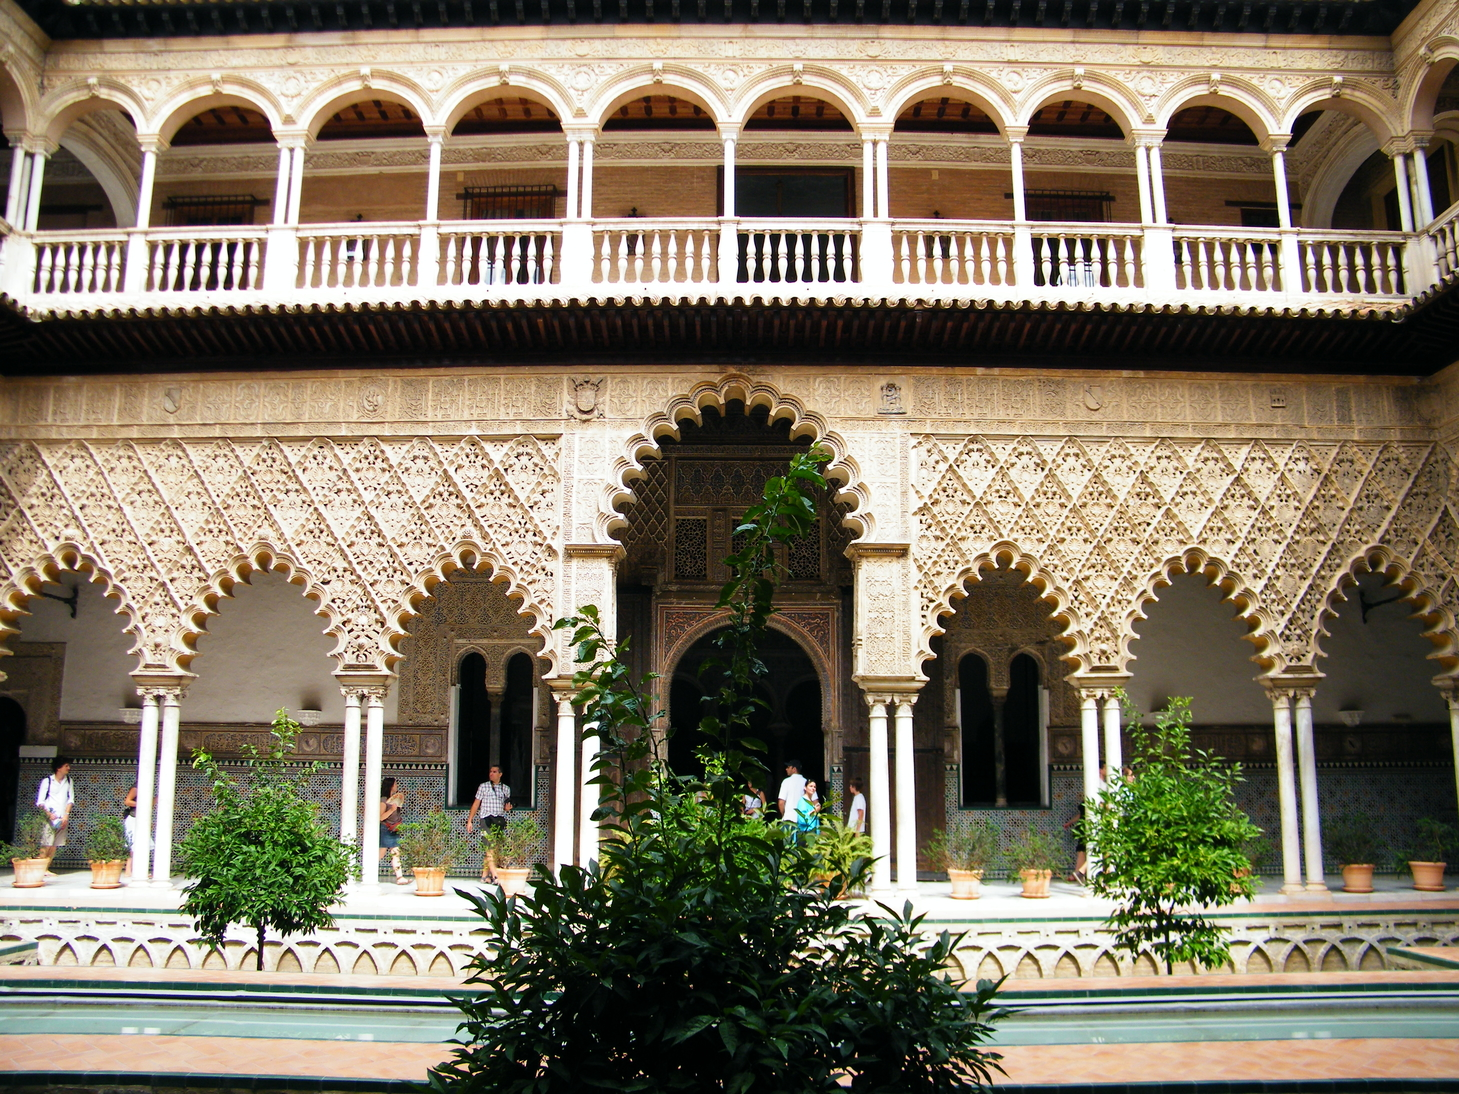arco-lobulado: (596, 369, 877, 573), (366, 536, 573, 709), (896, 534, 1102, 704), (164, 533, 362, 708), (1103, 541, 1294, 712), (1, 530, 162, 717), (1294, 536, 1459, 712)
arco-medio-punto: (729, 56, 878, 152), (433, 61, 585, 149), (585, 61, 729, 153), (290, 66, 437, 153), (878, 64, 1018, 155), (1147, 72, 1279, 164), (1016, 64, 1149, 155), (149, 74, 294, 155), (1276, 76, 1405, 165), (36, 75, 150, 162)
